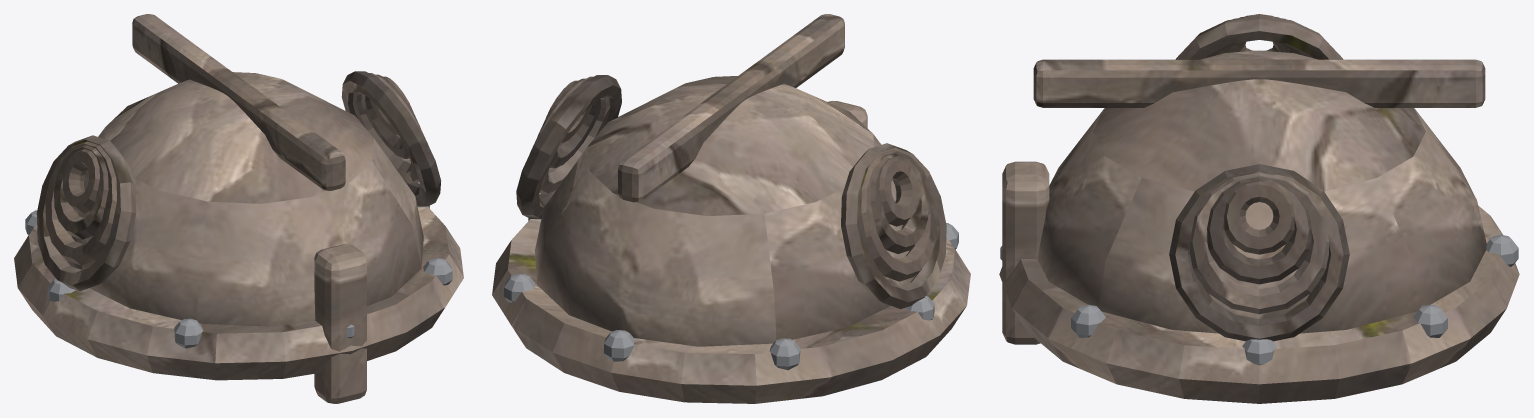
The model's file is helm_shell.glb.
3 renders of one model, left to right at view 1: azimuth 30°, elevation 25°; view 2: azimuth 150°, elevation 25°; view 3: azimuth 270°, elevation 25°, orthographic. The views are drawn at different scales.
Parts seen in each view (by area): view 1: model; view 2: model; view 3: model.
Boxes of the visible parts, left/top/right/bottom form: model: left=14, top=14, right=463, bottom=403; model: left=492, top=14, right=970, bottom=403; model: left=999, top=14, right=1519, bottom=403.
Bounding box in the file's own units: 0.334 × 0.195 × 0.334.
3 materials, 2 textured.
